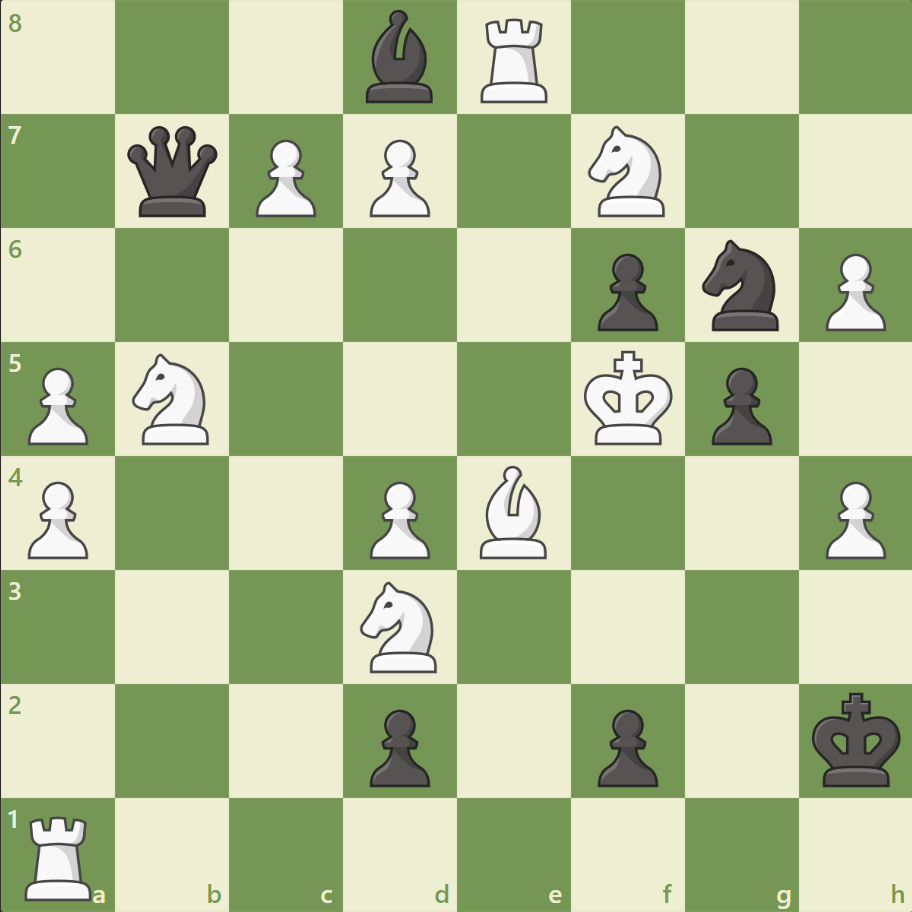B: (471, 460, 555, 563)
K: (579, 344, 679, 452)
N: (124, 348, 222, 450), (351, 575, 449, 677), (579, 121, 676, 223)
P: (247, 132, 322, 223), (20, 359, 95, 450), (20, 473, 95, 564), (361, 132, 435, 223), (815, 246, 889, 337), (361, 473, 435, 564), (815, 473, 889, 564)
R: (19, 806, 102, 904), (473, 12, 556, 109)
b: (358, 6, 442, 109)
k: (806, 685, 906, 793)
n: (692, 234, 789, 337)
p: (701, 359, 776, 450), (588, 246, 662, 337), (361, 700, 435, 791), (588, 700, 662, 791)
q: (124, 122, 223, 222)
